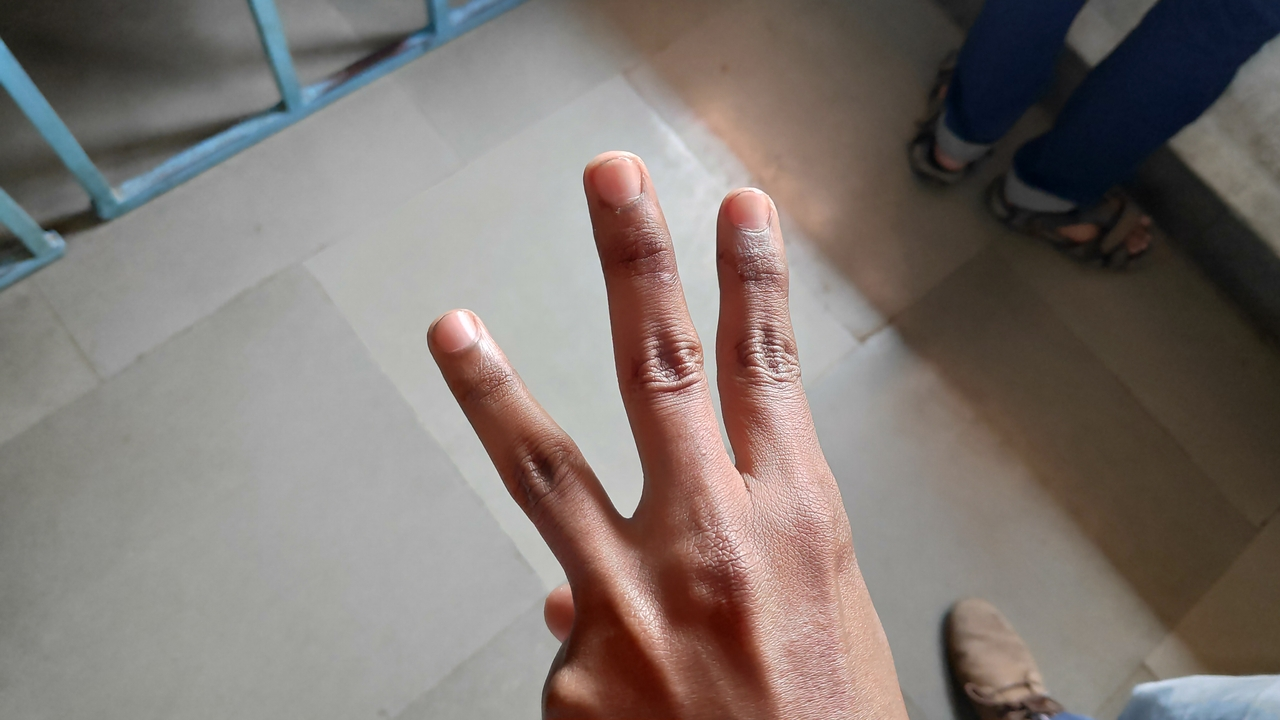fingertip: (418, 302, 492, 368), (578, 150, 662, 208), (716, 180, 782, 244)
